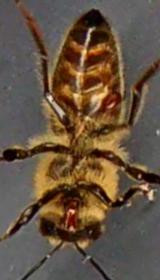varroa_mite: (96, 73, 125, 117)
